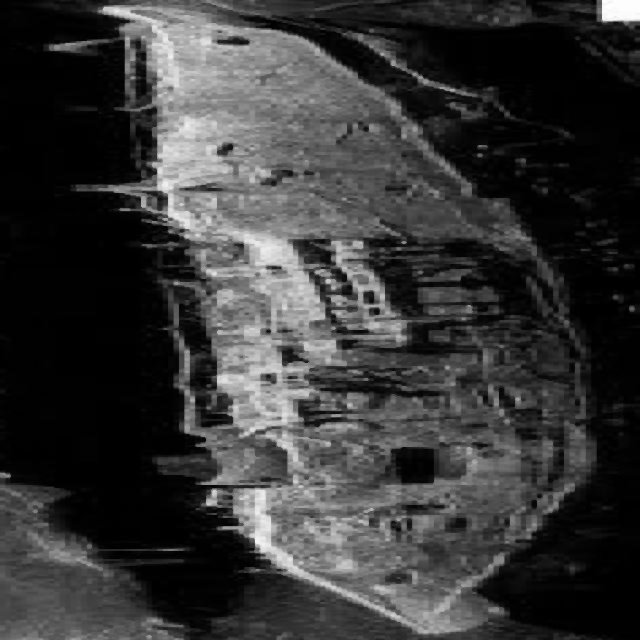Ship: (19, 3, 630, 635)
